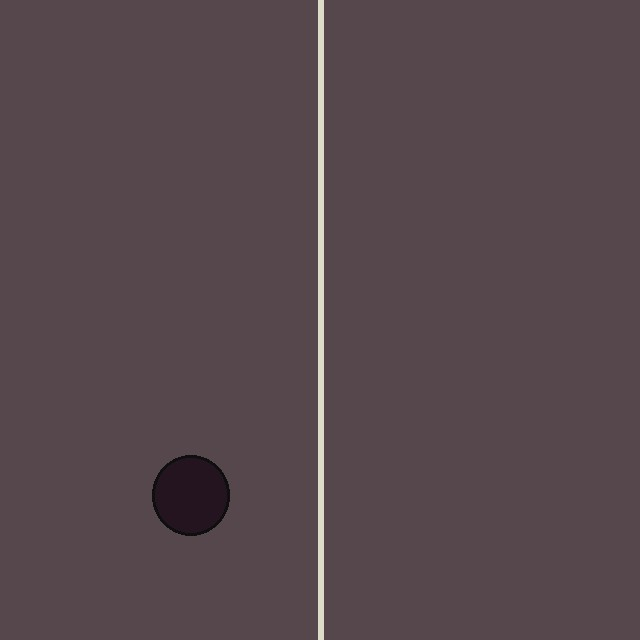pothole: (152, 455, 229, 535)
